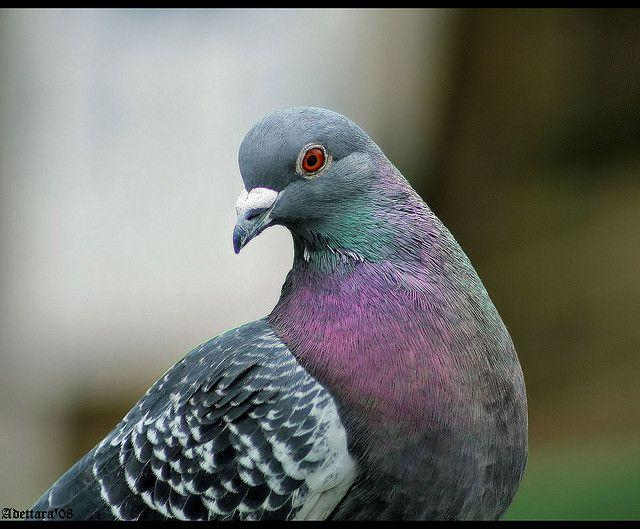Flying Rat: (23, 104, 535, 522)
